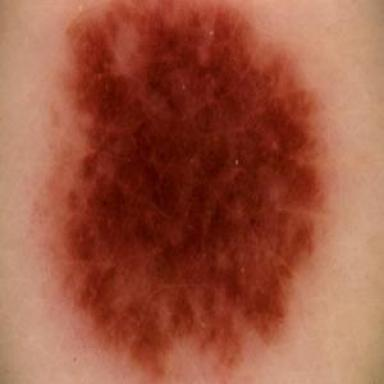Melanoma: (55, 0, 319, 384)
